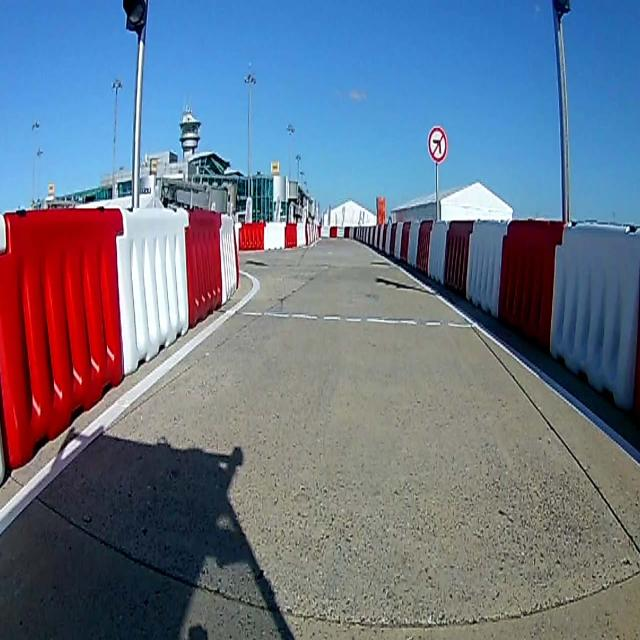soladonulmez: (425, 123, 448, 164)
